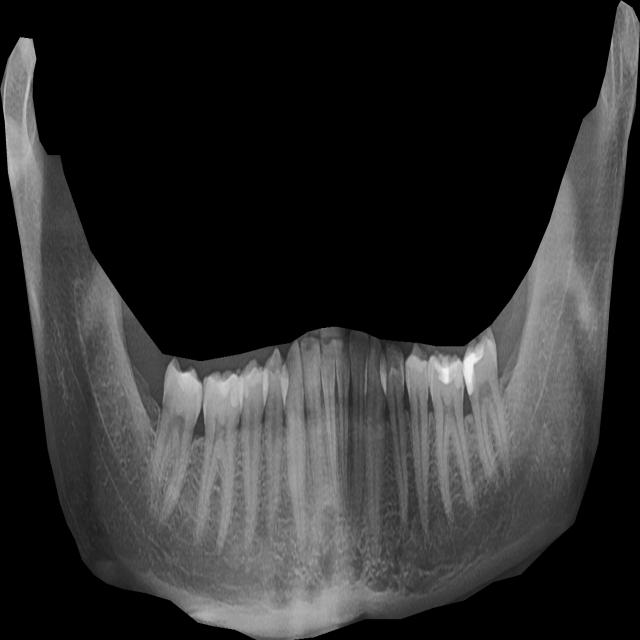mandibula: (0, 0, 640, 640)
